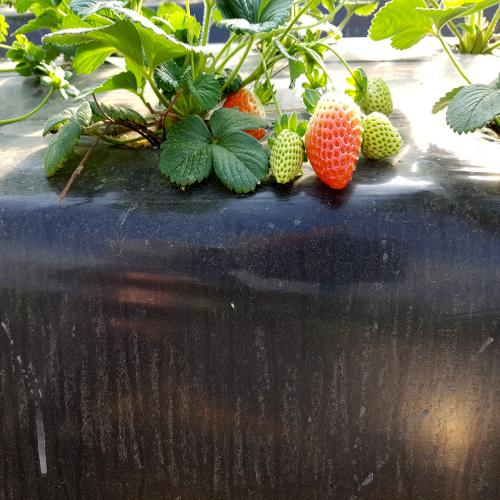ripe: (307, 88, 365, 202)
